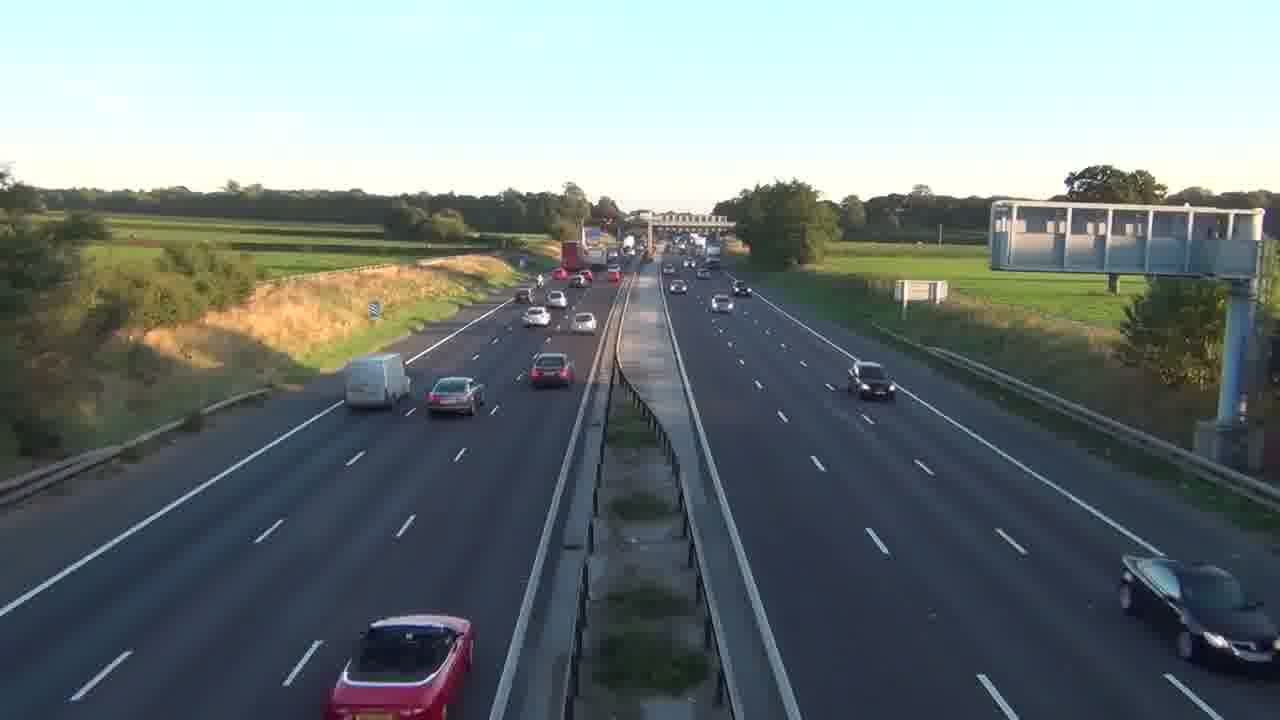car: (425, 375, 484, 418), (847, 359, 896, 401), (528, 351, 576, 388), (570, 311, 597, 334), (524, 306, 550, 327)
truck: (1117, 554, 1279, 670), (343, 353, 409, 411)
